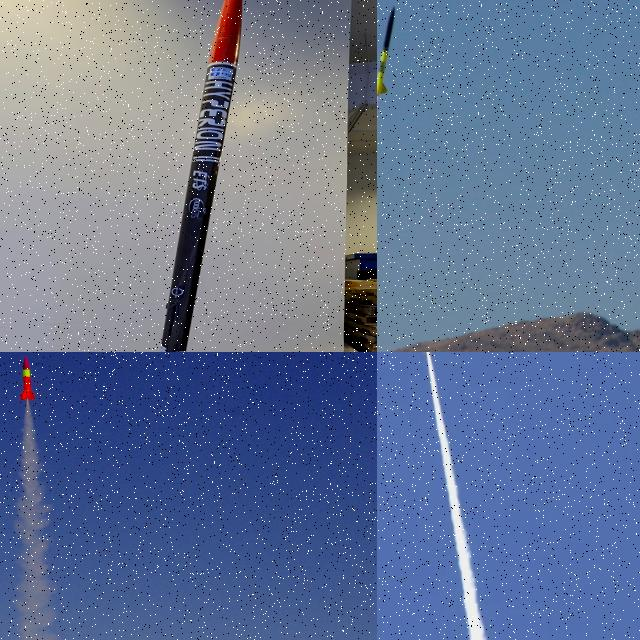Rocket: (160, 0, 243, 352), (377, 5, 395, 97), (20, 356, 35, 401)
